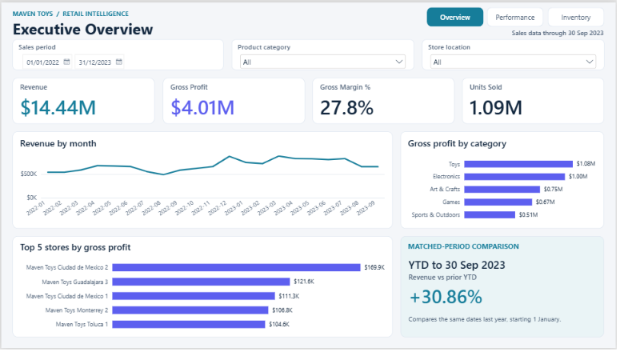

The dashboard page shown, as its layout file describes it:
{"tool":"powerbi","page":{"name":"Executive Overview","canvas":[1280,720],"ordinal":0},"visuals":[{"type":"textbox","box":[24,12,560,21],"z":1000},{"type":"textbox","box":[24,32,690,44],"z":2000},{"type":"actionButton","box":[886,10,118,40],"z":2500},{"type":"actionButton","box":[1012,10,118,40],"z":2600},{"type":"actionButton","box":[1138,10,118,40],"z":2700},{"type":"slicer","title":"Sales period","fields":{"Values":["Calendar.Date"]},"box":[24,76,440,64],"z":4000},{"type":"cardVisual","fields":{"Data":["Sales.Data Through"]},"box":[980,52,276,22],"z":4800},{"type":"slicer","title":"Product category","fields":{"Values":["Products.Product_Category"]},"box":[480,76,380,64],"z":5000},{"type":"slicer","title":"Store location","fields":{"Values":["Stores.Store_Location"]},"box":[876,76,380,64],"z":6000},{"type":"cardVisual","fields":{"Data":["Sales.Revenue"]},"box":[24,156,296,96],"z":7000},{"type":"cardVisual","fields":{"Data":["Sales.Gross Profit"]},"box":[336,156,296,96],"z":8000},{"type":"cardVisual","fields":{"Data":["Sales.Gross Margin %"]},"box":[648,156,296,96],"z":9000},{"type":"cardVisual","fields":{"Data":["Sales.Units Sold"]},"box":[960,156,296,96],"z":10000},{"type":"lineChart","title":"Revenue by month","fields":{"Category":["Calendar.Year Month"],"Y":["Sales.Revenue"]},"box":[24,268,792,202],"z":11000},{"type":"clusteredBarChart","title":"Gross profit by category","fields":{"Category":["Products.Product_Category"],"Y":["Sales.Gross Profit"]},"box":[832,268,424,202],"z":12000},{"type":"clusteredBarChart","title":"Top 5 stores by gross profit","fields":{"Category":["Stores.Store_Name"],"Y":["Sales.Gross Profit"]},"box":[24,486,792,210],"z":13000},{"type":"textbox","box":[832,486,424,210],"z":14000},{"type":"cardVisual","fields":{"Data":["Sales.YTD Comparison Label"]},"box":[848,526,392,32],"z":15000},{"type":"cardVisual","fields":{"Data":["Sales.Revenue YTD YoY %"]},"box":[848,561,392,73],"z":16000},{"type":"textbox","box":[848,648,392,25],"z":17000}]}

Visuals, with their boxes in screenshot pixels (x1, y1, x2, y2), scaled from the page's 1280x720 canvas onto the 617x350 screenshot:
textbox: region(12, 6, 282, 16)
textbox: region(12, 16, 344, 37)
actionButton: region(427, 5, 484, 24)
actionButton: region(488, 5, 545, 24)
actionButton: region(549, 5, 605, 24)
"Sales period" slicer: region(12, 37, 224, 68)
cardVisual - Sales.Data Through: region(472, 25, 605, 36)
"Product category" slicer: region(231, 37, 415, 68)
"Store location" slicer: region(422, 37, 605, 68)
cardVisual - Sales.Revenue: region(12, 76, 154, 122)
cardVisual - Sales.Gross Profit: region(162, 76, 305, 122)
cardVisual - Sales.Gross Margin %: region(312, 76, 455, 122)
cardVisual - Sales.Units Sold: region(463, 76, 605, 122)
"Revenue by month" lineChart: region(12, 130, 393, 228)
"Gross profit by category" clusteredBarChart: region(401, 130, 605, 228)
"Top 5 stores by gross profit" clusteredBarChart: region(12, 236, 393, 338)
textbox: region(401, 236, 605, 338)
cardVisual - Sales.YTD Comparison Label: region(409, 256, 598, 271)
cardVisual - Sales.Revenue YTD YoY %: region(409, 273, 598, 308)
textbox: region(409, 315, 598, 327)
